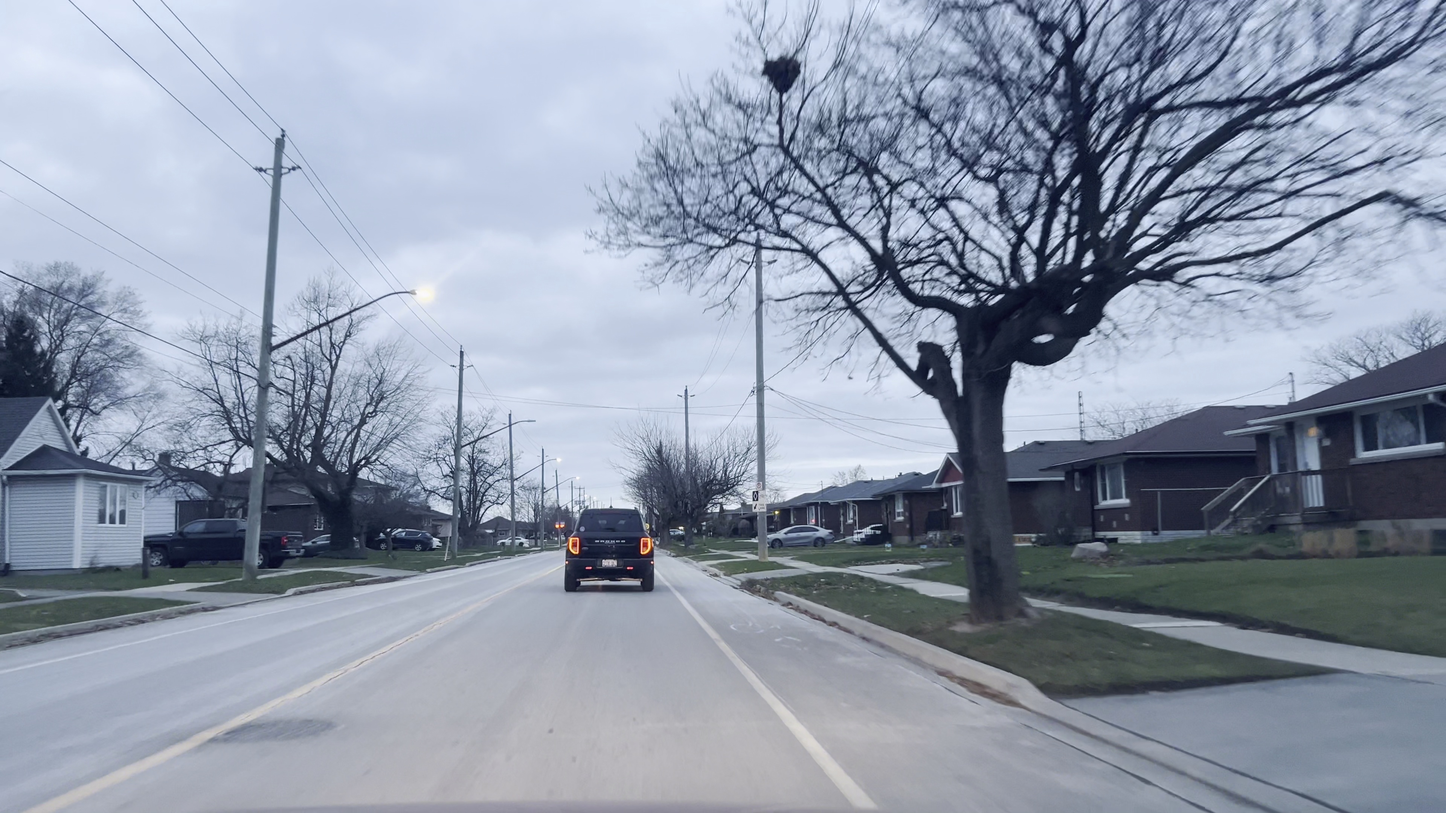cracks: (181, 713, 367, 752)
